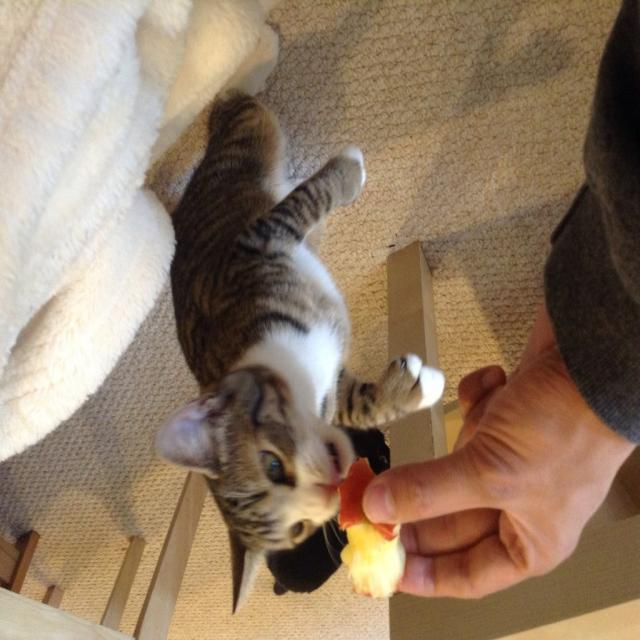Cat: (151, 85, 446, 619), (261, 428, 390, 596)
